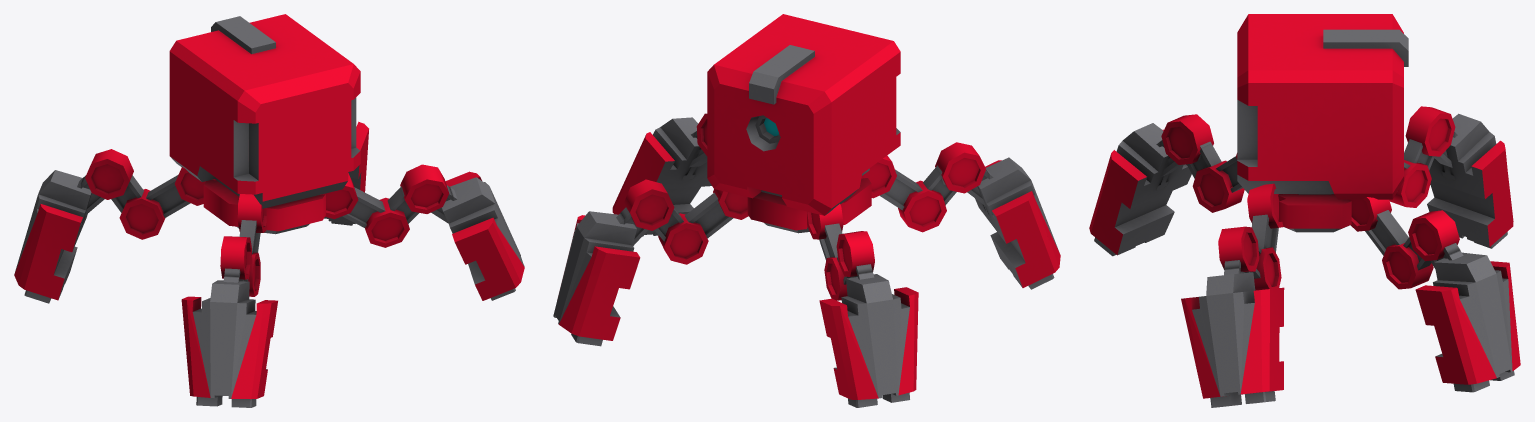
The model's file is Monster1_Move29.obj.
3 views of the same model, side by side, from view 1: azimuth 30°, elevation 25°; view 2: azimuth 150°, elevation 25°; view 3: azimuth 270°, elevation 25° (orthographic). The views are drawn at different scales.
Visible parts, largest first — view 1: Box006, Object021, Object025, Object017, Object028, Object020, Object027, Object019, Object018, Object026, Object024, Object022 (+2 smaller); view 2: Box006, Object025, Object013, Object021, Object017, Object016, Object023, Object024, Object015, Object014, Object028, Object022 (+3 smaller); view 3: Box006, Object017, Object013, Object021, Object025, Object023, Object016, Object024, Object014, Object028, Object018, Object020 (+4 smaller).
Part boxes in pixels (x1,y1,x2,y2): Box006: (169,14,360,234); Object021: (181,280,277,407); Object025: (14,170,91,303); Object017: (442,171,524,300); Object028: (77,149,133,215); Object020: (400,164,457,223); Object027: (111,175,165,239); Object019: (365,186,418,247); Object018: (320,173,385,227); Object026: (146,167,215,217); Object024: (220,236,251,282); Object022: (237,194,266,254); Box006: (707,14,900,233); Object025: (819,274,918,407); Object013: (553,211,640,346); Object021: (975,157,1060,289); Object017: (612,117,711,236); Object016: (616,179,674,245); Object023: (898,165,956,232); Object024: (935,142,993,206); Object015: (654,208,708,264); Object014: (685,189,748,238); Object028: (836,231,874,279); Object022: (861,155,922,210); Box006: (1237,14,1408,232); Object017: (1181,272,1284,407); Object013: (1415,252,1520,392); Object021: (1089,123,1191,256); Object025: (1427,113,1513,248); Object023: (1186,141,1244,212); Object016: (1408,210,1463,268); Object024: (1156,114,1213,176); Object014: (1348,197,1408,255); Object028: (1405,106,1457,167); Object018: (1247,183,1283,252); Object020: (1218,226,1259,275).
Bounding box in the file's own units: 170 × 109 × 153.
